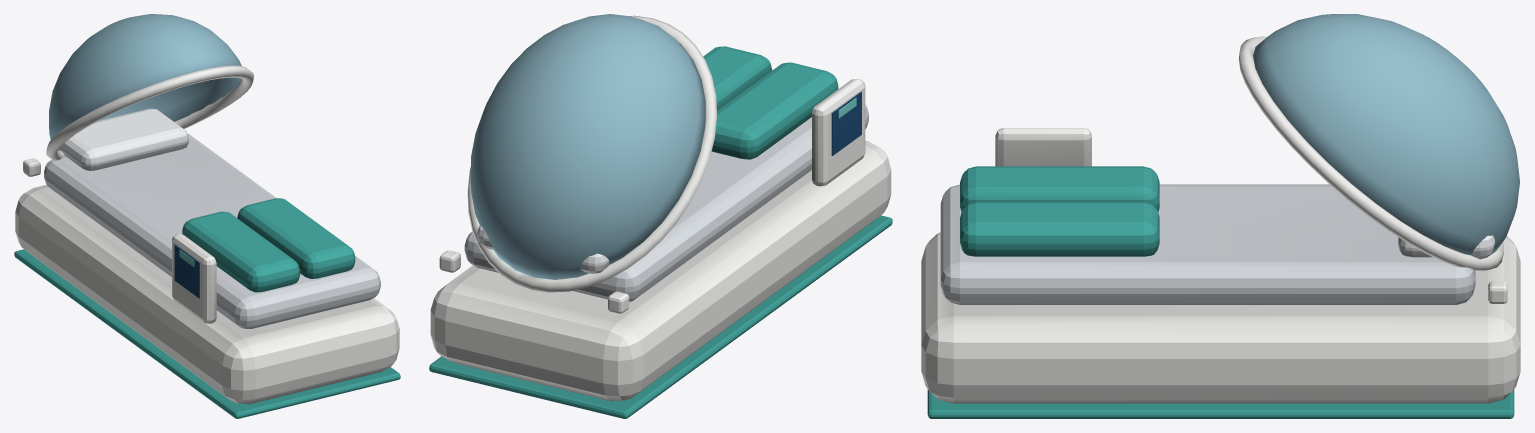
File: recoveryPod.glb
The picture shows the model from 3 angles, left to right: view 1: azimuth 30°, elevation 25°; view 2: azimuth 150°, elevation 25°; view 3: azimuth 270°, elevation 25°; orthographic projection. The views are drawn at different scales.
Visible parts, largest first — view 1: body, canopy; view 2: body, canopy; view 3: body, canopy.
Boxes of the visible parts, bbox=[...] form: body: bbox=[14, 108, 400, 418]; canopy: bbox=[46, 14, 254, 161]; body: bbox=[429, 46, 892, 418]; canopy: bbox=[467, 14, 716, 292]; body: bbox=[921, 128, 1520, 418]; canopy: bbox=[1238, 14, 1519, 271].
Size of the model in its own units: 0.8586 by 1.18 by 1.86.
